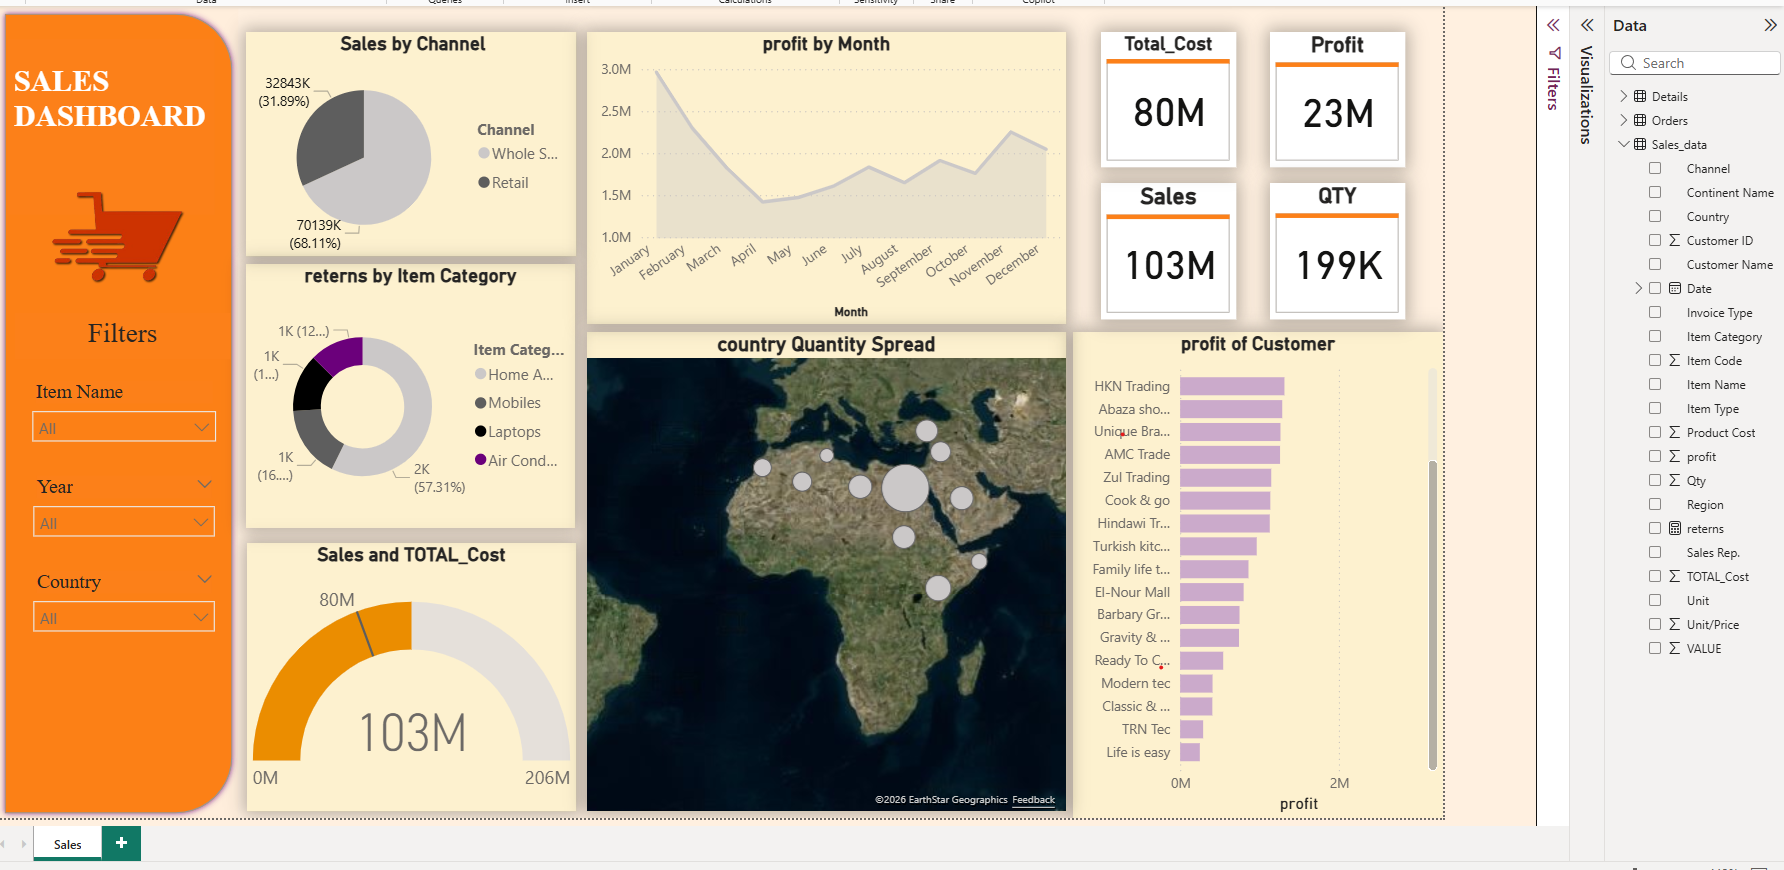

This screenshot's page, from the dashboard's own definition file:
{"tool":"powerbi","page":{"name":"Sales","canvas":[1280,720],"ordinal":0},"visuals":[{"type":"pieChart","title":"Sales by Channel","fields":{"Category":["Sales_data.Channel"],"Y":["Sum(Sales_data.VALUE)"]},"box":[219,23.1,292.6,198.6],"z":0},{"type":"cardVisual","title":"Profit","fields":{"Data":["Sum(Sales_data.profit)"]},"box":[1127,23.1,119.7,119.7],"z":1000},{"type":"clusteredBarChart","title":"profit of Customer ","fields":{"Category":["Sales_data.Customer Name"],"Y":["Sum(Sales_data.profit)"]},"box":[952.3,289.1,328.1,430.9],"z":2000},{"type":"gauge","title":"Sales and  TOTAL_Cost","fields":{"TargetValue":["Sum(Sales_data.TOTAL_Cost)"],"Y":["Sum(Sales_data.VALUE)"]},"box":[219.9,476.2,291.7,237.6],"z":3000},{"type":"cardVisual","title":"Sales","fields":{"Data":["Sum(Sales_data.VALUE)"]},"box":[977.1,156.9,119.7,120.6],"z":4000},{"type":"lineChart","title":"profit by Month","fields":{"Category":["Sales_data.Date.Variation.Date Hierarchy.Month"],"Y":["Sum(Sales_data.profit)"]},"box":[521.4,23.1,424.7,258.9],"z":5000},{"type":"shape","title":"Online Sales Dashboard","box":[0,1.8,211.9,719.1],"z":6000},{"type":"textbox","box":[8,29.3,182.7,156.1],"z":7000},{"type":"cardVisual","title":"Total_Cost","fields":{"Data":["Sum(Sales_data.TOTAL_Cost)"]},"box":[977.1,23.1,119.7,119.7],"z":8000},{"type":"donutChart","fields":{"Category":["Sales_data.Item Category"],"Y":["Sales_data.reterns"]},"box":[219,228.8,291.7,234.1],"z":9000},{"type":"cardVisual","title":"QTY","fields":{"Data":["Sum(Sales_data.Qty)"]},"box":[1127,156.9,119.7,120.6],"z":10000},{"type":"slicer","fields":{"Values":["Sales_data.Item Name"]},"box":[19.1,327.1,182.9,71.6],"z":11000},{"type":"slicer","fields":{"Values":["Sales_data.Date.Variation.Date Hierarchy.Year"]},"box":[20.7,411.4,181.3,71.6],"z":12000},{"type":"slicer","fields":{"Values":["Sales_data.Country"]},"box":[20.7,495.7,181.3,71.6],"z":13000},{"type":"image","box":[8,122.5,194.1,163.8],"z":14000},{"type":"textbox","box":[14.3,272,190.9,41.4],"z":15000},{"type":"azureMap","title":"country Quantity Spread","fields":{"Category":["Sales_data.Country"],"Size":["Sum(Sales_data.Qty)"]},"box":[521.4,289.1,424.7,424.7],"z":16000}]}

Visuals, with their boxes on the page's 1280x720 design canvas (x1, y1, x2, y2). These are canvas units, not pixel positions in the 1784x870 screenshot, which may show the page scaled, cropped or inside an application window:
"Sales by Channel" pieChart: bbox(219, 23, 512, 222)
"Profit" cardVisual: bbox(1127, 23, 1247, 143)
"profit of Customer " clusteredBarChart: bbox(952, 289, 1280, 720)
"Sales and  TOTAL_Cost" gauge: bbox(220, 476, 512, 714)
"Sales" cardVisual: bbox(977, 157, 1097, 278)
"profit by Month" lineChart: bbox(521, 23, 946, 282)
"Online Sales Dashboard" shape: bbox(0, 2, 212, 721)
textbox: bbox(8, 29, 191, 185)
"Total_Cost" cardVisual: bbox(977, 23, 1097, 143)
donutChart - Sales_data.Item Category x Sales_data.reterns: bbox(219, 229, 511, 463)
"QTY" cardVisual: bbox(1127, 157, 1247, 278)
slicer - Sales_data.Item Name: bbox(19, 327, 202, 399)
slicer - Sales_data.Date.Variation.Date Hierarchy.Year: bbox(21, 411, 202, 483)
slicer - Sales_data.Country: bbox(21, 496, 202, 567)
image: bbox(8, 122, 202, 286)
textbox: bbox(14, 272, 205, 313)
"country Quantity Spread" azureMap: bbox(521, 289, 946, 714)
